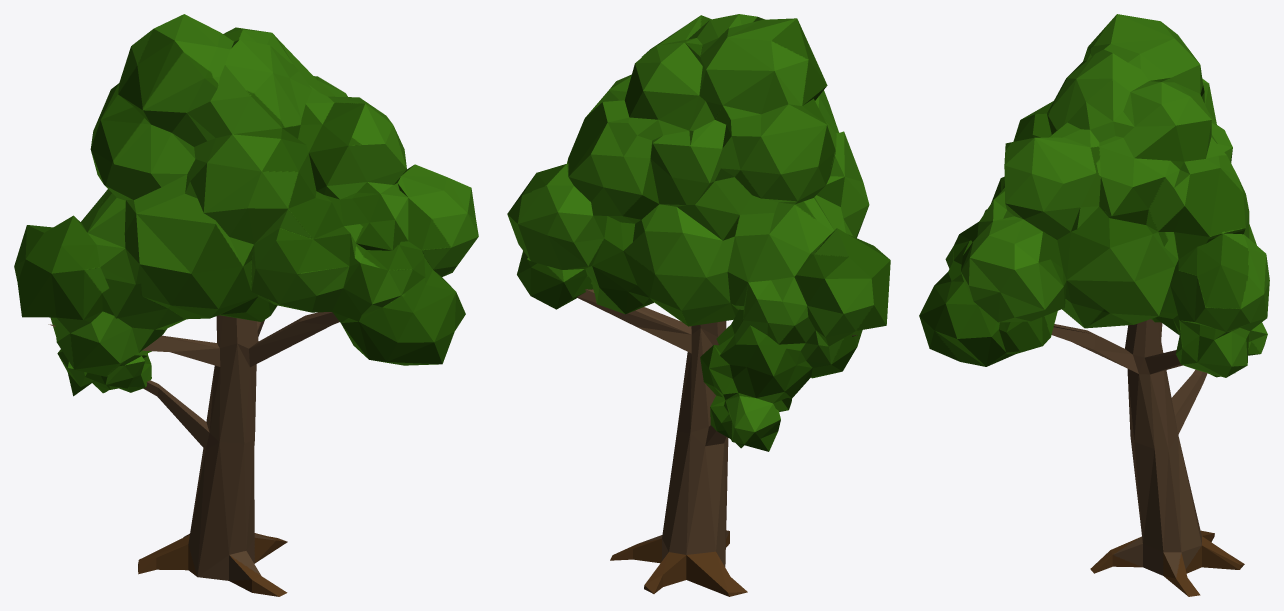
The model's file is tree6.glb.
3 renders of one model, left to right at view 1: azimuth 30°, elevation 25°; view 2: azimuth 150°, elevation 25°; view 3: azimuth 270°, elevation 25°, orthographic. The views are drawn at different scales.
Visible parts, largest first — view 1: Tree6; view 2: Tree6; view 3: Tree6.
Part boxes in pixels (box(x1,y1,x2,y2)): Tree6: box(14, 14, 478, 596); Tree6: box(507, 14, 890, 596); Tree6: box(919, 14, 1269, 596).
Size of the model in its own units: 1.74 by 2.6 by 1.6.
Materials: 1 (1 with a texture image).
